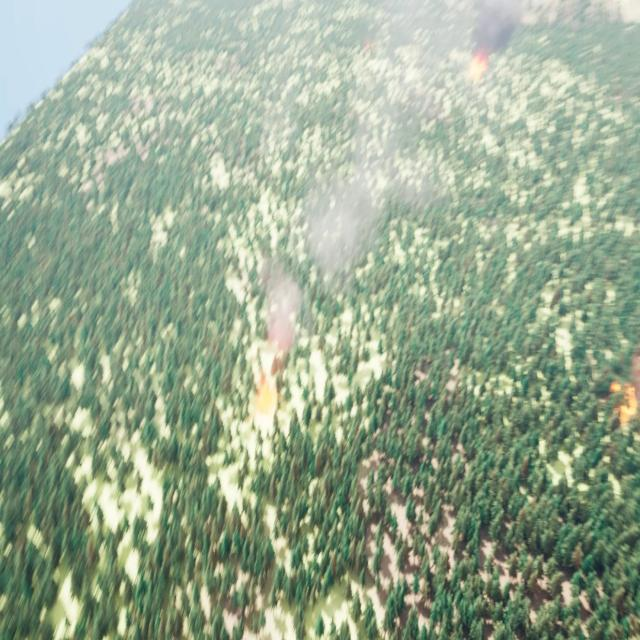fire: (612, 365, 639, 427), (252, 376, 280, 419), (467, 52, 488, 75)
smoke: (265, 266, 298, 365), (471, 3, 517, 50)
